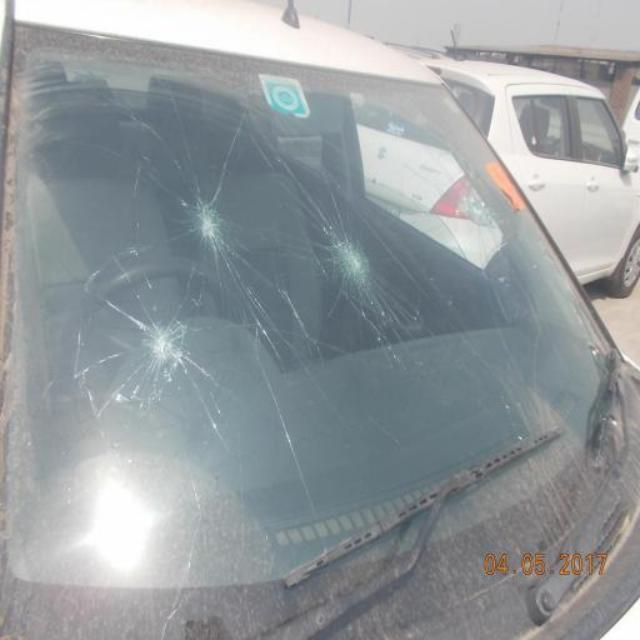glass shatter: (118, 287, 204, 391), (454, 183, 506, 238), (330, 238, 375, 294), (191, 197, 226, 245)
